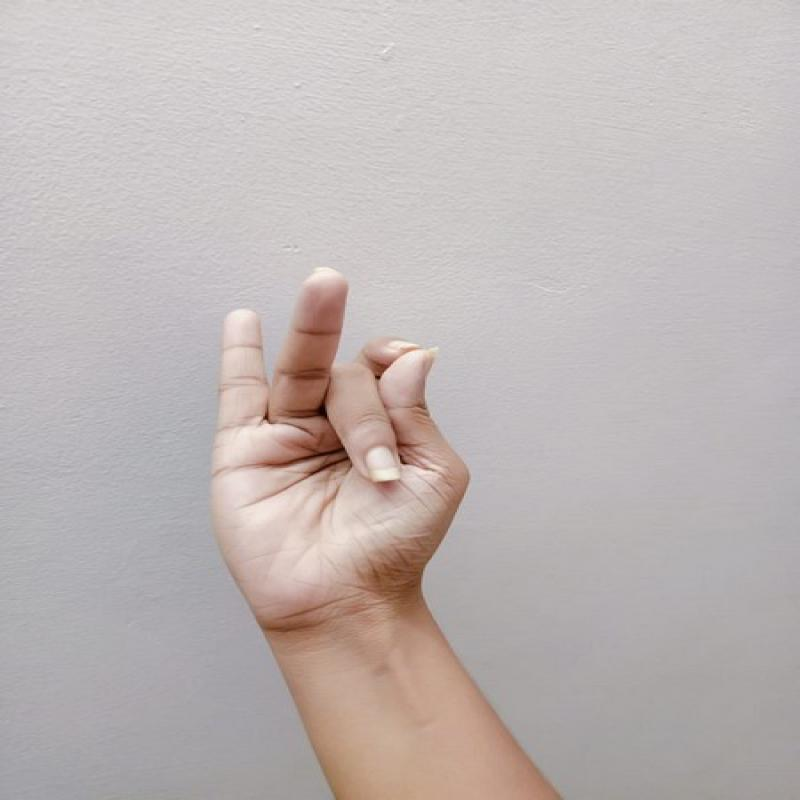Katakam: (160, 259, 509, 644)
